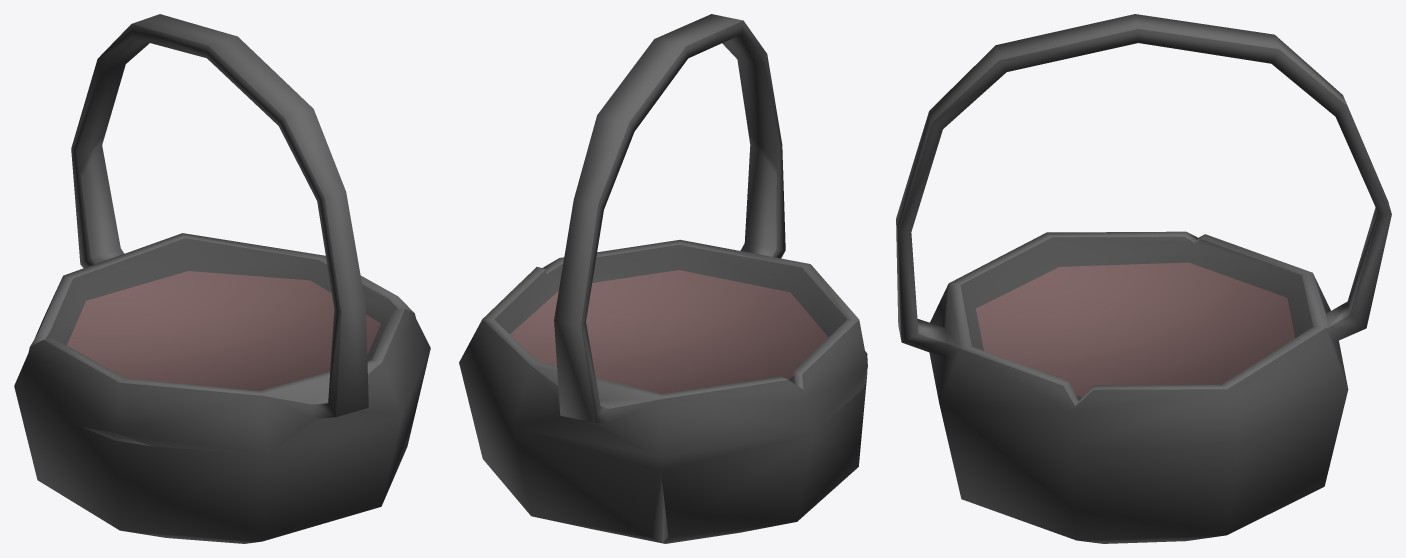
Rendered from Cauldron_01.glb.
3 renders of one model, left to right at view 1: azimuth 30°, elevation 25°; view 2: azimuth 150°, elevation 25°; view 3: azimuth 270°, elevation 25°, orthographic. The views are drawn at different scales.
Parts seen in each view (by area): view 1: Cauldron_01; view 2: Cauldron_01; view 3: Cauldron_01.
Boxes of the visible parts, left/top/right/bottom form: Cauldron_01: left=14, top=14, right=430, bottom=543; Cauldron_01: left=459, top=14, right=867, bottom=543; Cauldron_01: left=896, top=14, right=1391, bottom=543.
Size of what is drawn, in the model's own units: 0.4725 by 0.5912 by 0.5541.
Materials: 1 (1 with a texture image).
